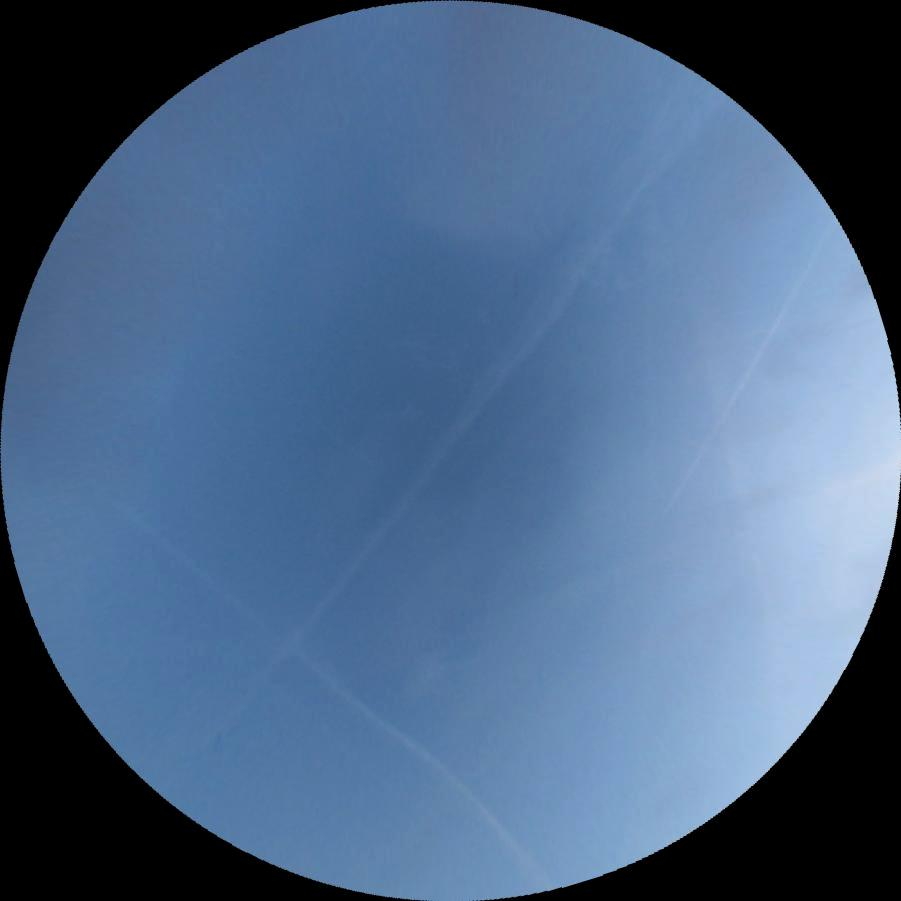contrail veryold: (180, 62, 736, 736), (87, 466, 557, 890)
contrail young: (659, 217, 839, 515)
